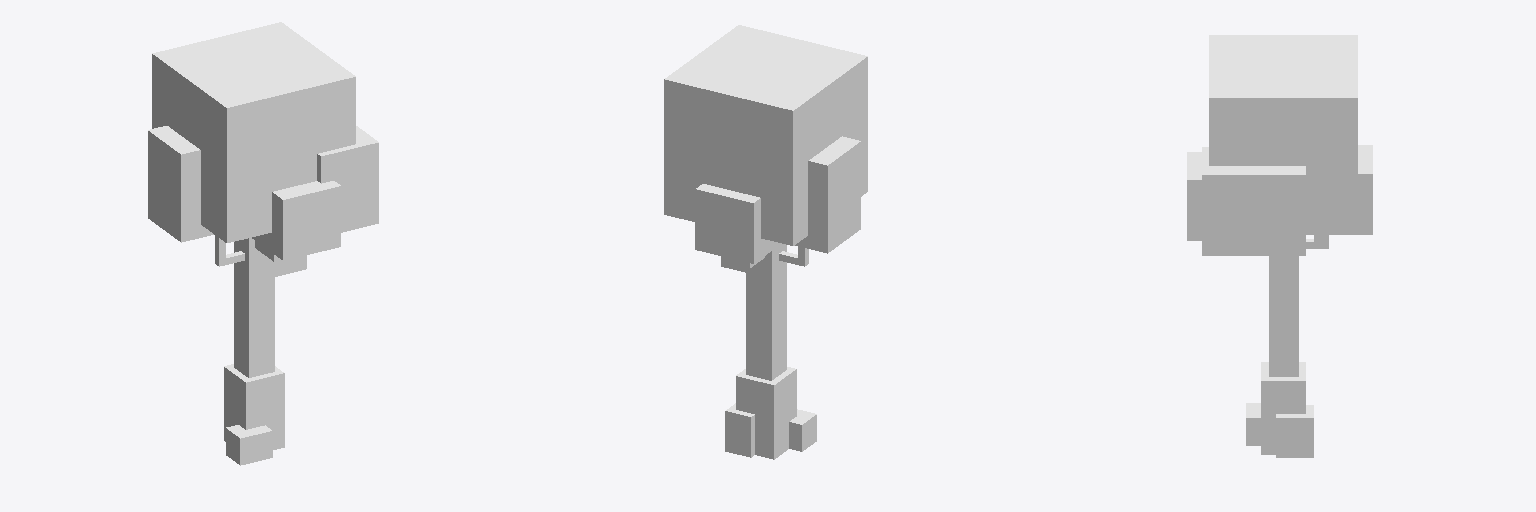
The model's file is Voxels-7.obj.
3 renders of one model, left to right at view 1: azimuth 30°, elevation 25°; view 2: azimuth 150°, elevation 25°; view 3: azimuth 270°, elevation 25°, orthographic.
Parts seen in each view (by area): view 1: Voxels-7; view 2: Voxels-7; view 3: Voxels-7.
Part boxes in pixels (left/top/right/bottom): Voxels-7: left=148, top=22, right=378, bottom=465; Voxels-7: left=664, top=25, right=867, bottom=459; Voxels-7: left=1187, top=35, right=1372, bottom=457.
Bounding box in the file's own units: 26 × 56 × 25.